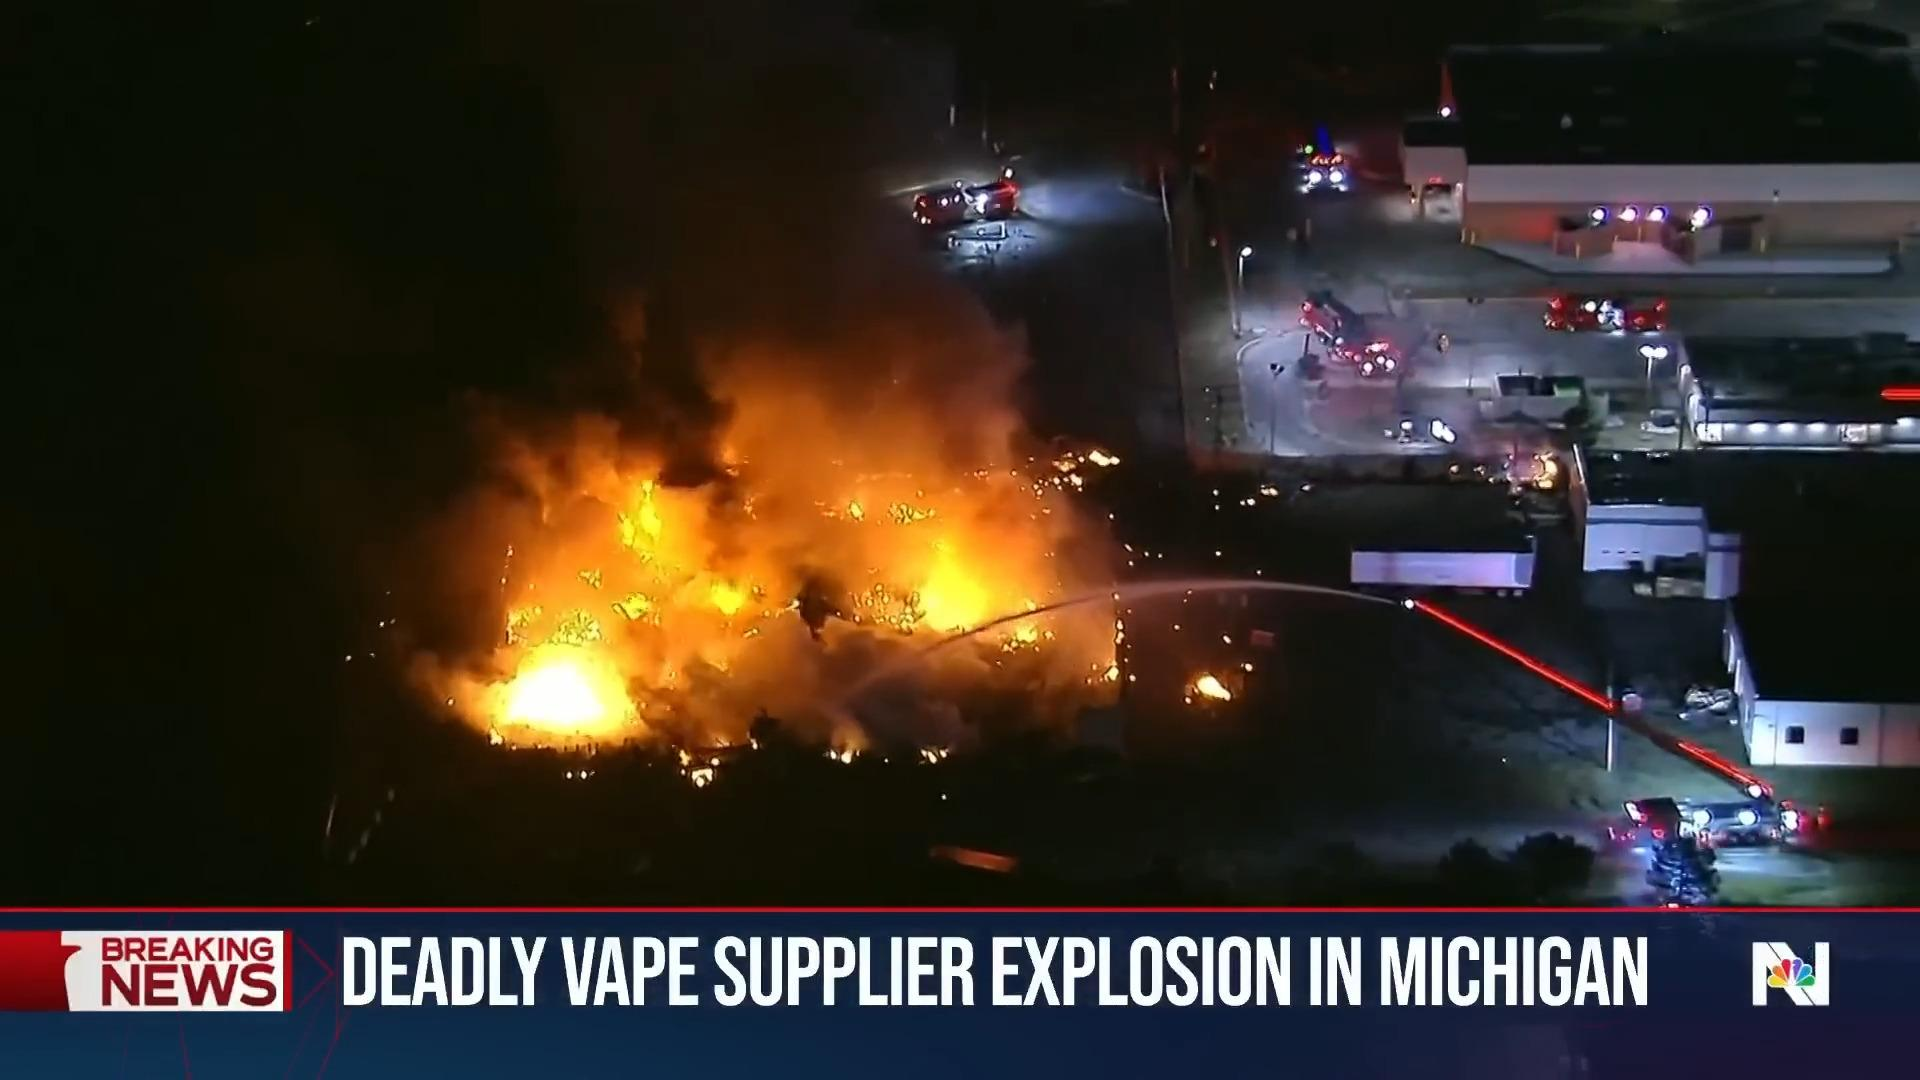fire: (286, 224, 1275, 779)
